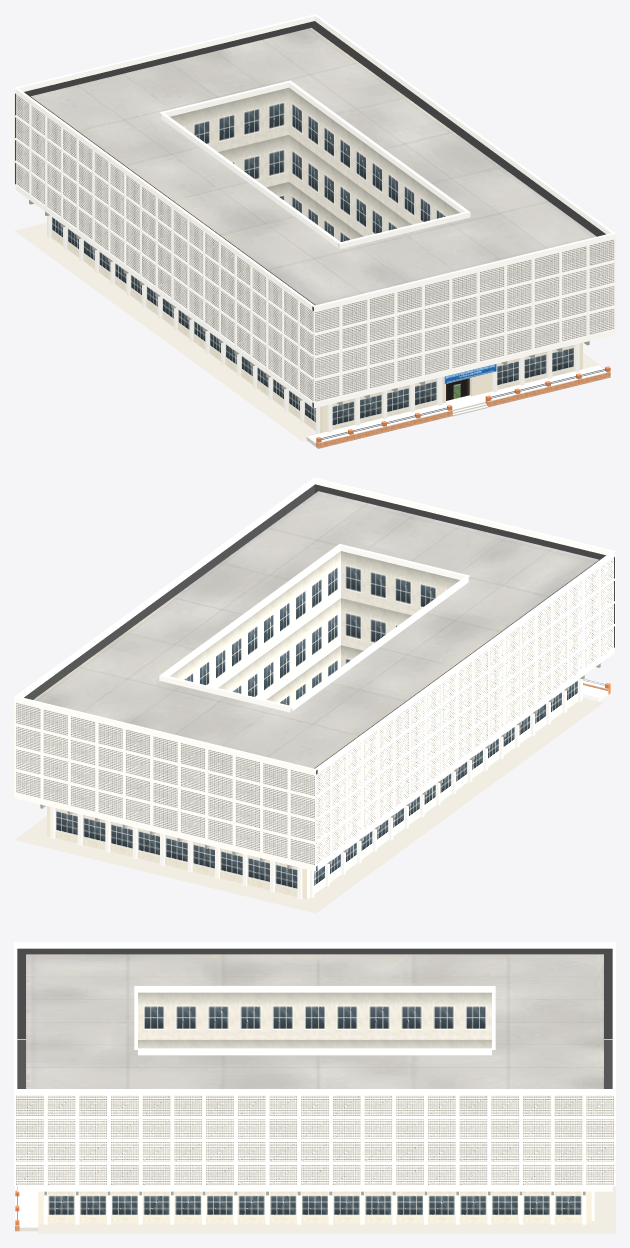
Rendered from ifst.glb.
The picture shows the model from 3 angles, top to bottom: view 1: azimuth 30°, elevation 25°; view 2: azimuth 150°, elevation 25°; view 3: azimuth 270°, elevation 25°; orthographic projection.
Parts seen in each view (by area): view 1: IFST; view 2: IFST; view 3: IFST.
Boxes of the visible parts, x1=… form: IFST: x1=14, y1=14, x2=615, y2=448; IFST: x1=14, y1=477, x2=615, y2=913; IFST: x1=14, y1=942, x2=615, y2=1233.
Bounding box in the file's own units: 37.55 × 17 × 64.61.
1 material, 1 textured.
